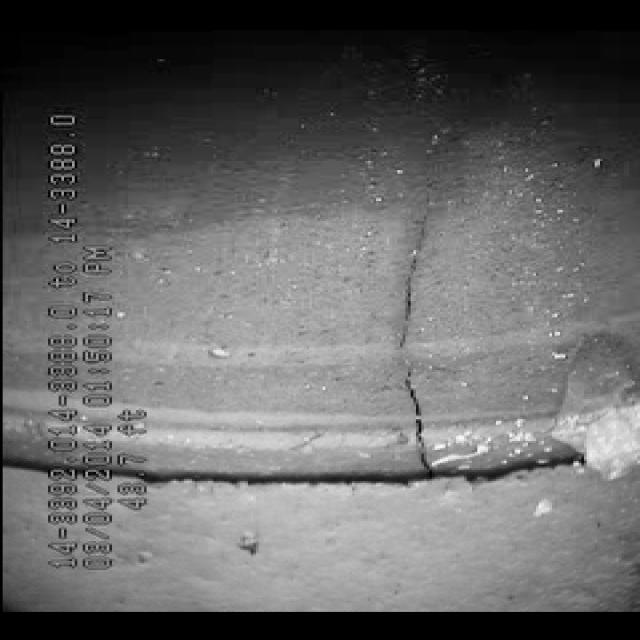Crack: (370, 220, 480, 460)
